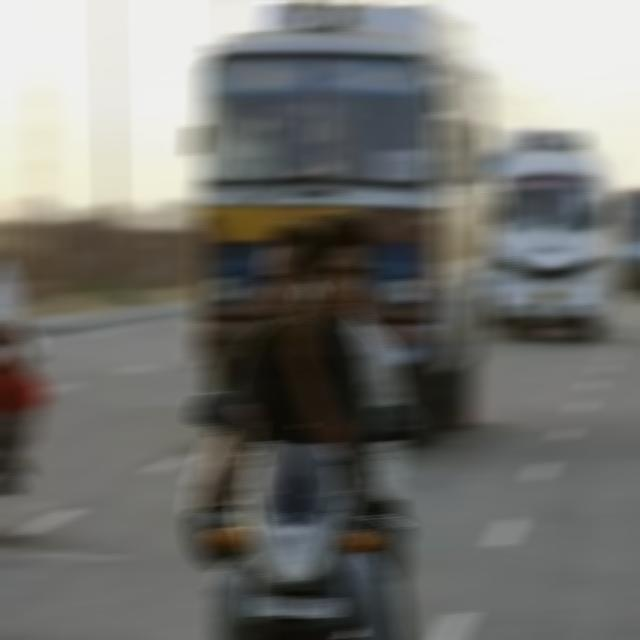Without Helmet: (259, 212, 334, 332)
